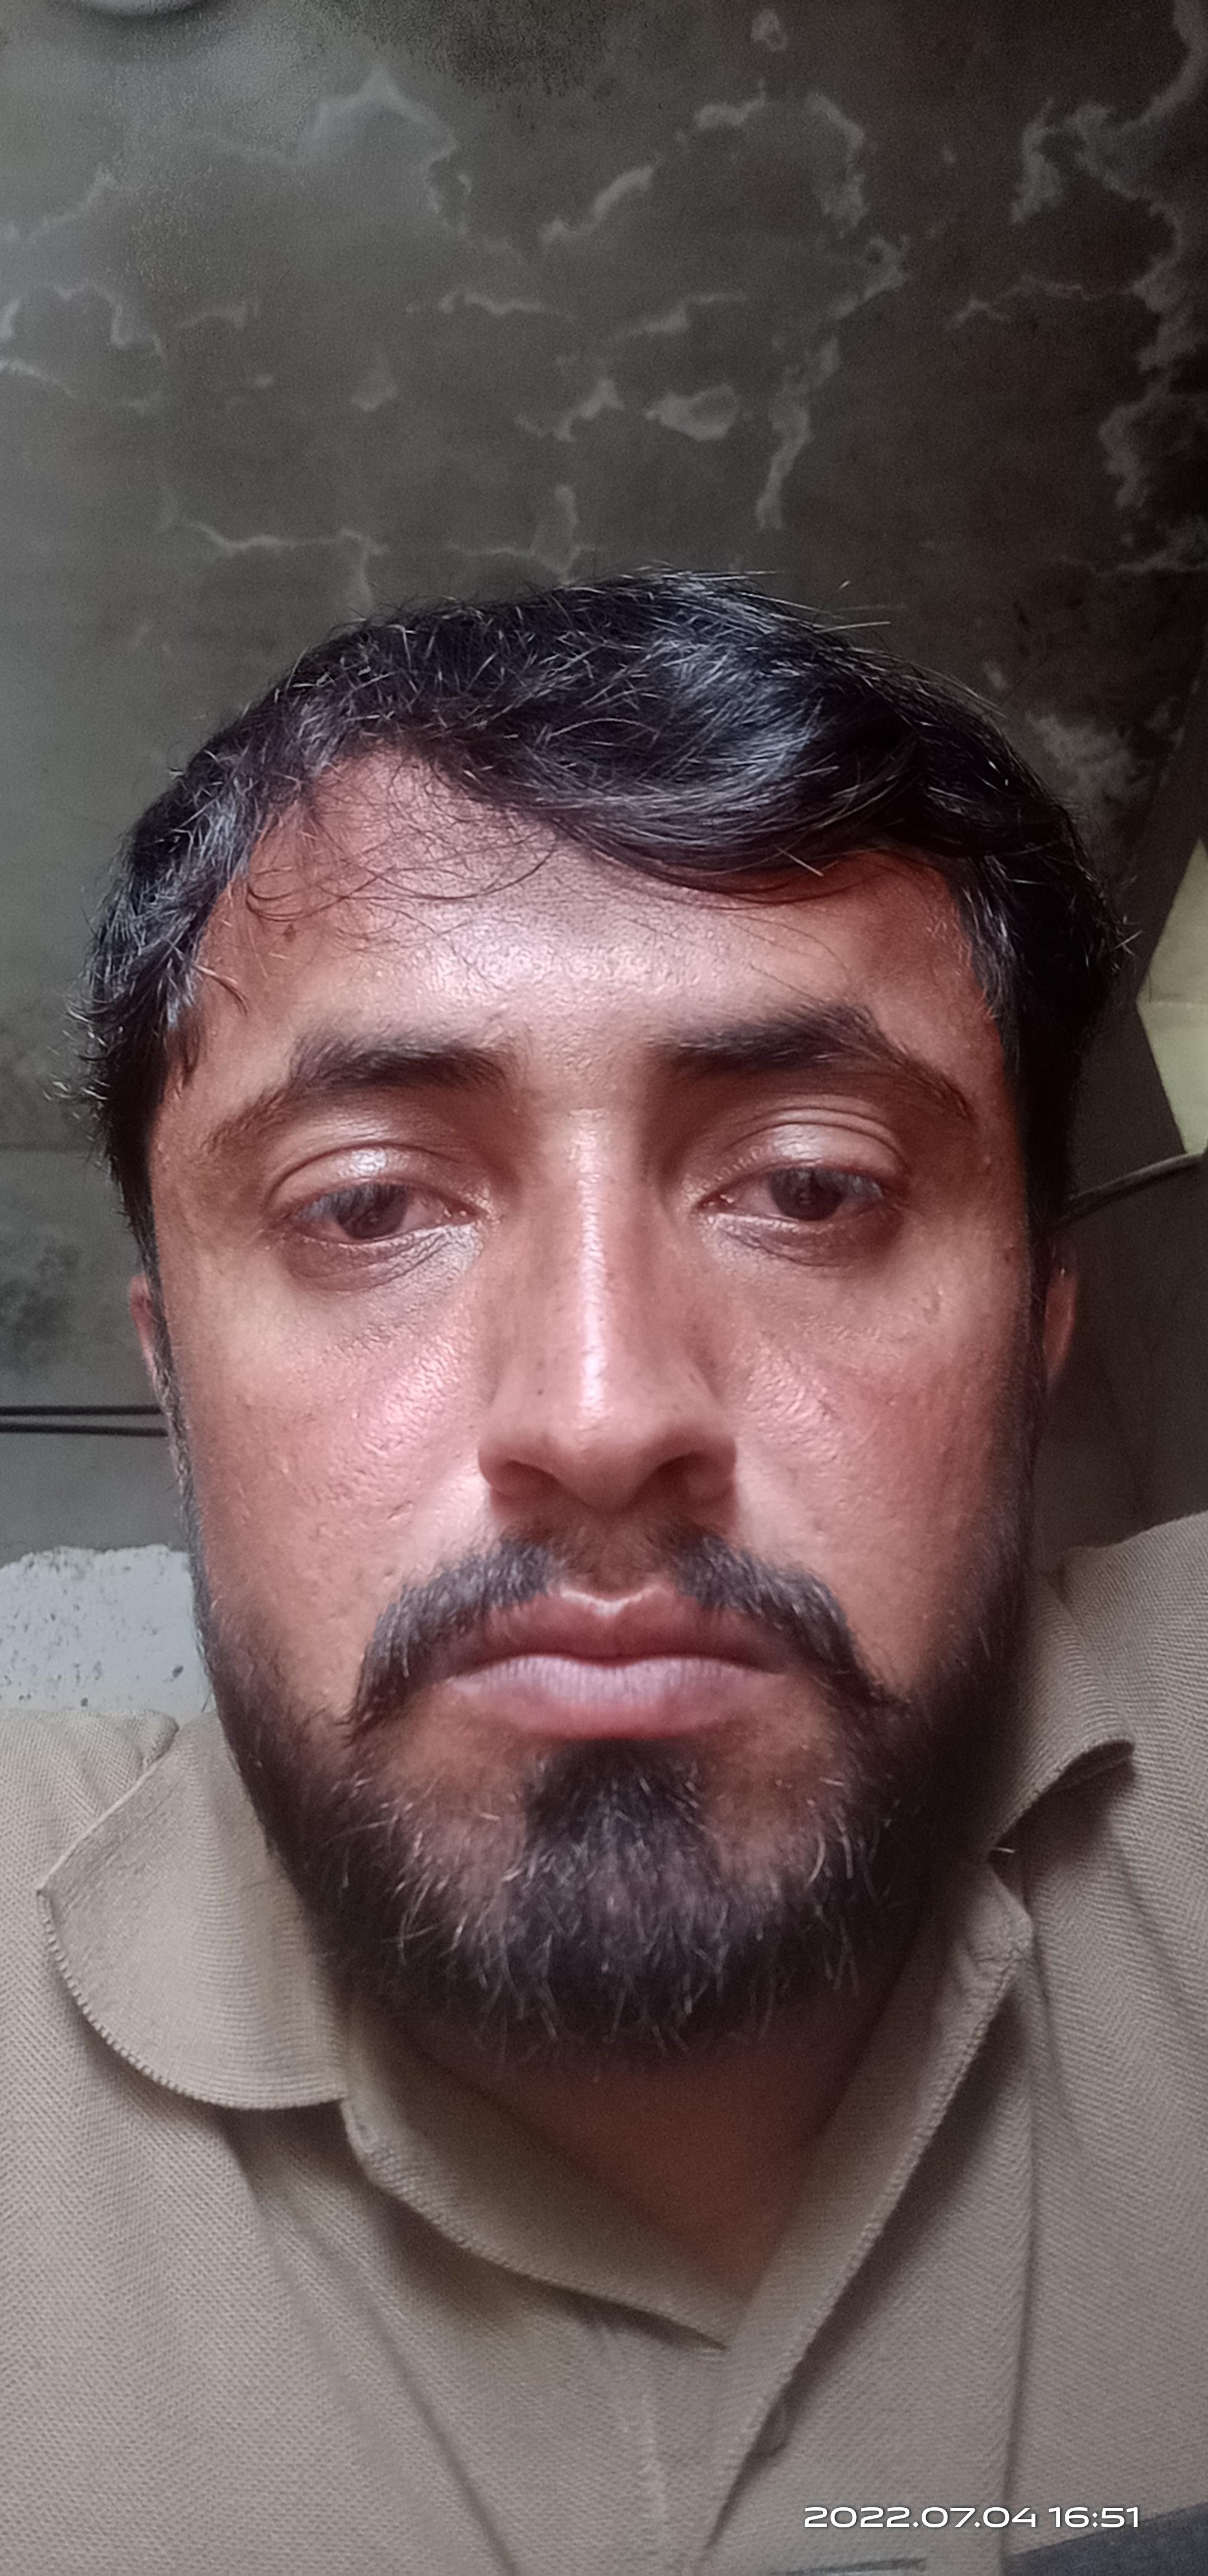Acne: (996, 1232, 1024, 1275), (367, 963, 391, 986), (153, 1134, 171, 1160), (981, 1152, 999, 1173), (940, 1446, 953, 1462)
Englarged-Pores: (332, 1319, 473, 1505), (728, 1324, 858, 1483)
Wrinkles: (552, 1101, 626, 1119)
